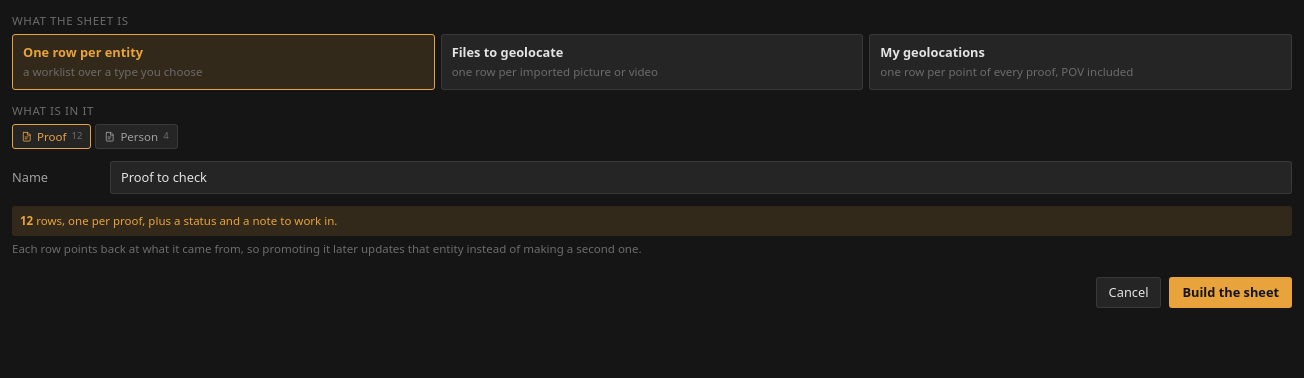
Test: choosing what the sheet is › drops the type and the fields on the outgoing branch
Expected: the element with class "types" is shown, top-left (12, 124), bottom-right (178, 149)
Click the button "Person 4" at {"x": 137, "y": 136}, box top-left (95, 124), bottom-right (178, 149)
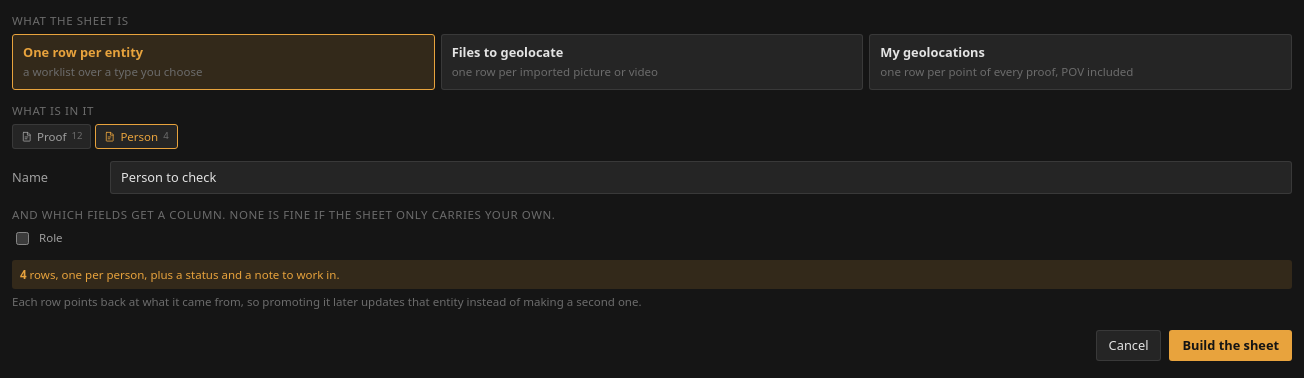
Result: the element with class "fields" is shown at top-left (16, 230), bottom-right (63, 245)
Click the button that starts with "My geolocations" at {"x": 1081, "y": 62}, box top-left (869, 34), bottom-right (1292, 90)
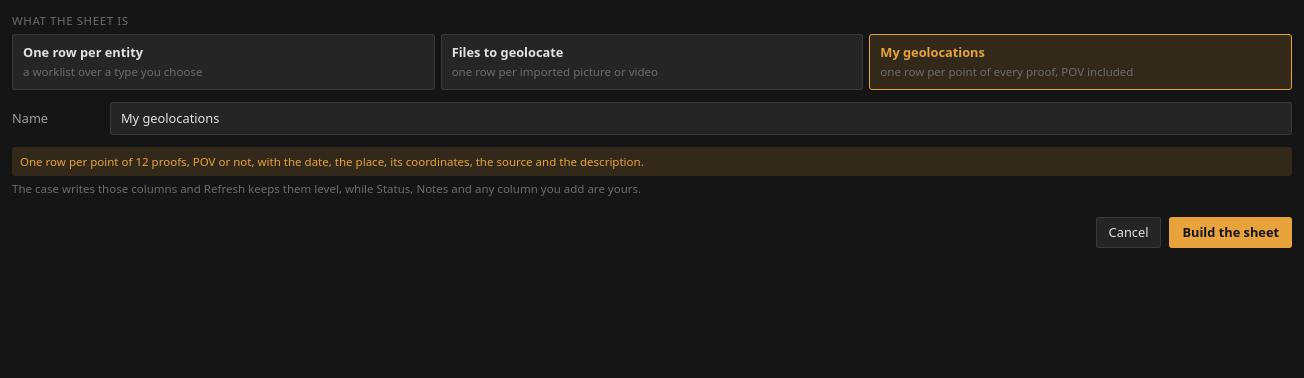
Result: the element with class "types" is gone
Result: the element with class "fields" is gone
